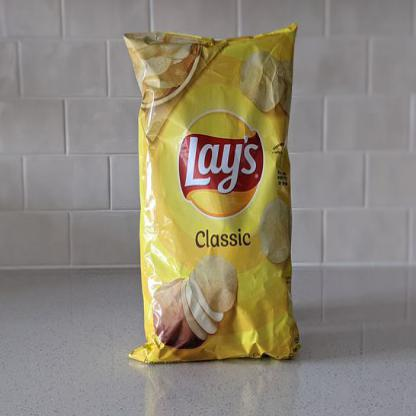potatochip: (120, 17, 304, 369)
